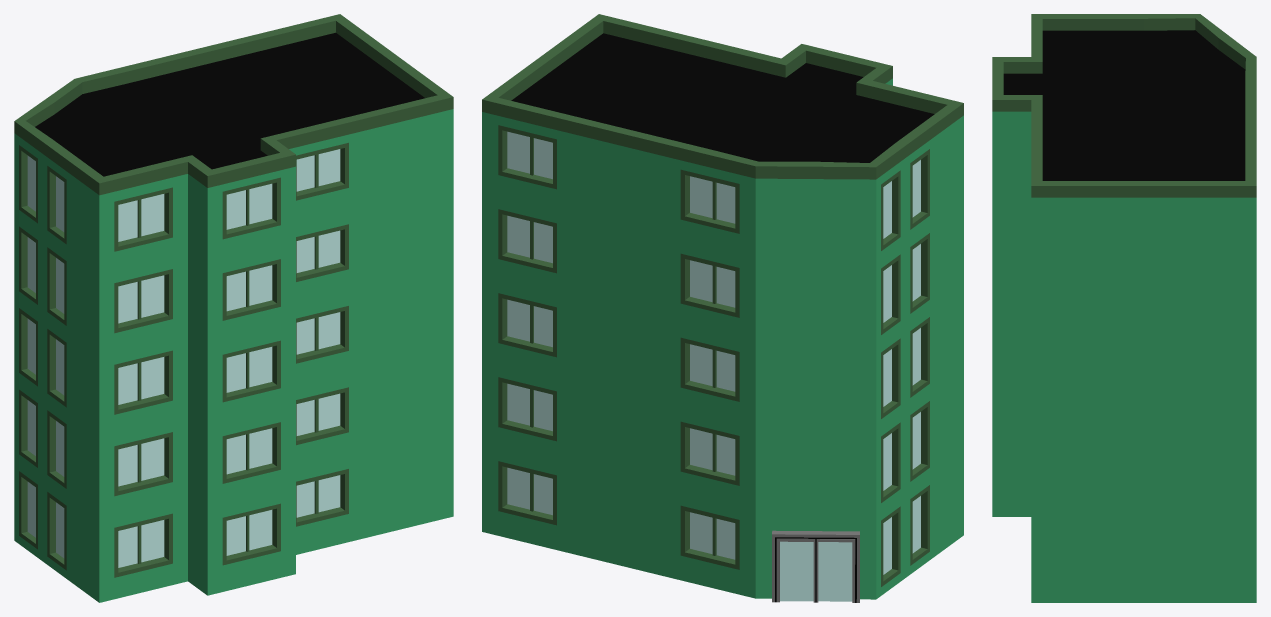
File: BlockOfFlats6.fbx
3 renders of one model, left to right at view 1: azimuth 30°, elevation 25°; view 2: azimuth 150°, elevation 25°; view 3: azimuth 270°, elevation 25°, orthographic. The views are drawn at different scales.
Parts seen in each view (by area): view 1: BlockOfFlats7; view 2: BlockOfFlats7; view 3: BlockOfFlats7.
Boxes of the visible parts, <box> form: BlockOfFlats7: <box>14,14,453,602</box>; BlockOfFlats7: <box>482,14,963,602</box>; BlockOfFlats7: <box>992,14,1256,602</box>.
Size of the model in its own units: 7156 by 8101 by 4656.
